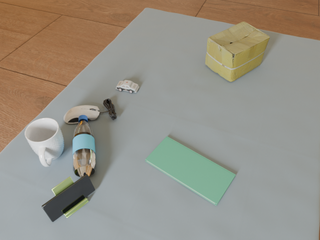book: (145, 136, 235, 206)
bottle: (73, 115, 96, 177)
box: (205, 22, 270, 82)
cup: (25, 118, 64, 167)
mouse: (64, 105, 102, 124)
phone: (42, 174, 95, 222)
toy_car: (116, 80, 139, 93)
